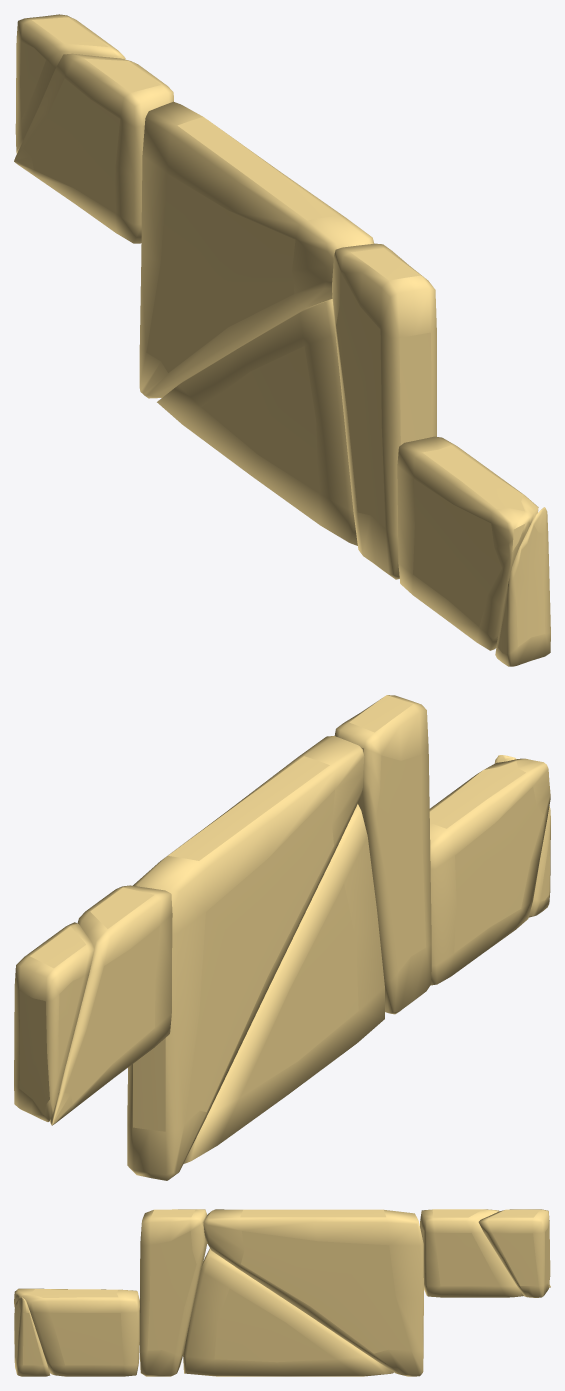
Rendered from Mesh_StoneWall_Center_1.fbx.
3 renders of one model, top to bottom at view 1: azimuth 30°, elevation 25°; view 2: azimuth 150°, elevation 25°; view 3: azimuth 270°, elevation 25°, orthographic. The views are drawn at different scales.
Visible parts, largest first — view 1: Muro_piedras_intmodular2_medio:Mesh; view 2: Muro_piedras_intmodular2_medio:Mesh; view 3: Muro_piedras_intmodular2_medio:Mesh.
Part boxes in pixels (x1=…): Muro_piedras_intmodular2_medio:Mesh: x1=14, y1=14, x2=550, y2=666; Muro_piedras_intmodular2_medio:Mesh: x1=14, y1=695, x2=550, y2=1180; Muro_piedras_intmodular2_medio:Mesh: x1=14, y1=1209, x2=550, y2=1376.
Bounding box in the file's own units: 0.7269 × 4.34 × 13.22.
